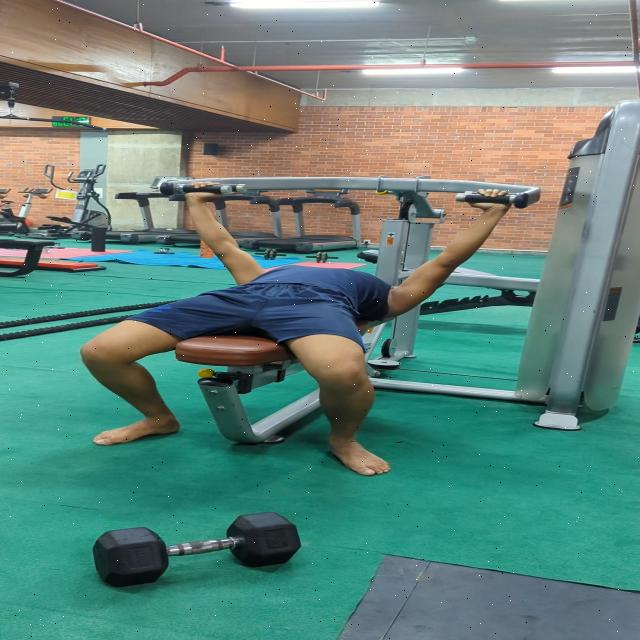Normal_BrenchPress: (14, 185, 537, 476)
